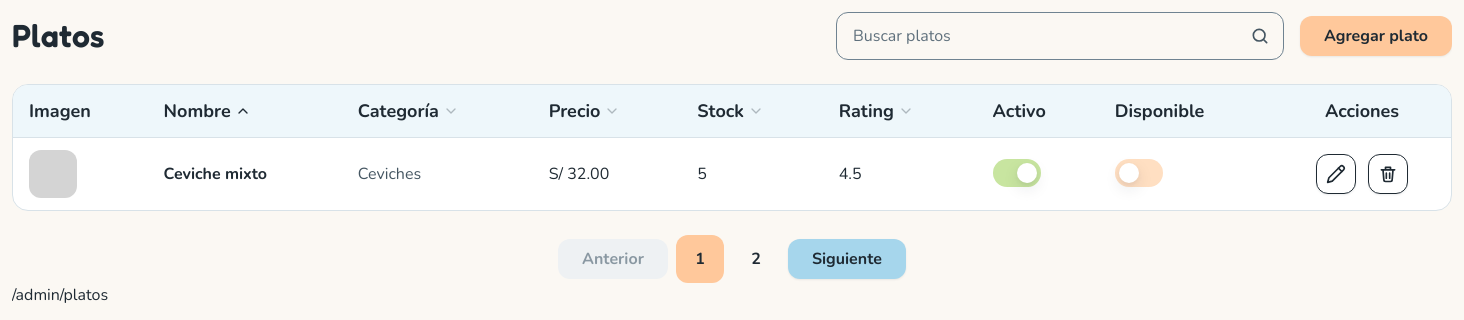
Test: AdminProductsPage › buscar escribe ?q= y quita la página; sin resultados lo dice
The width and height of the screenshot is (1464, 320).
Type "sopa" into the search field labelled "Buscar platos" at (1060, 36), box [836, 12, 1284, 60]
Then press Enter
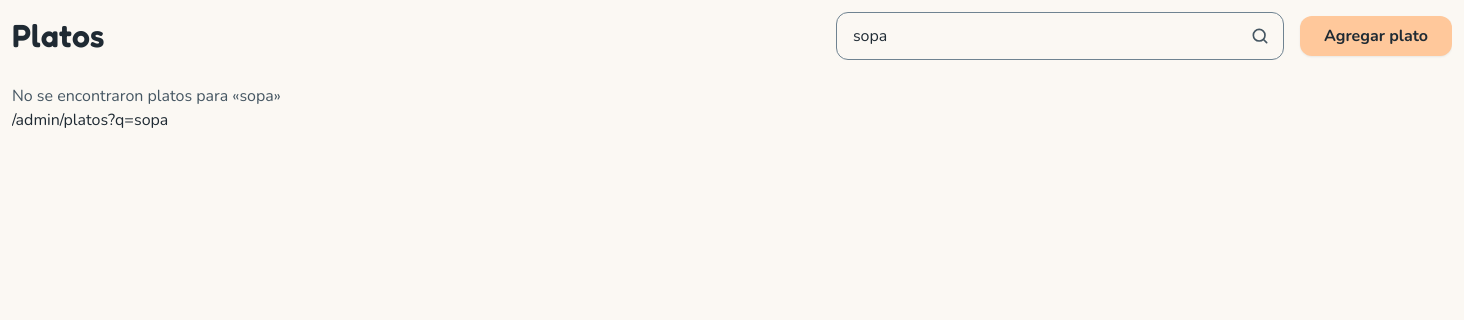
Expected: the button "Agregar plato" is shown, [1300, 16, 1452, 56]
Now the text "No se encontraron platos para «sopa»" is shown, box [12, 85, 281, 107]
Now the text with test id "location" reads "/admin/platos?q=sopa", box [12, 109, 168, 131]
